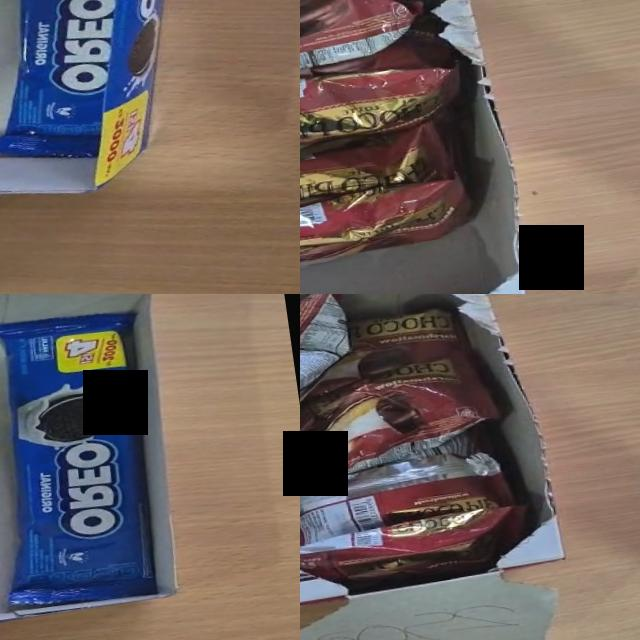Chocopie: (300, 349, 510, 492), (300, 503, 534, 604), (300, 443, 517, 549), (300, 174, 480, 281), (300, 56, 469, 164), (300, 117, 461, 227), (301, 303, 476, 391), (300, 0, 431, 87), (300, 294, 365, 435)
Oreo: (0, 304, 176, 614), (0, 0, 230, 205)
